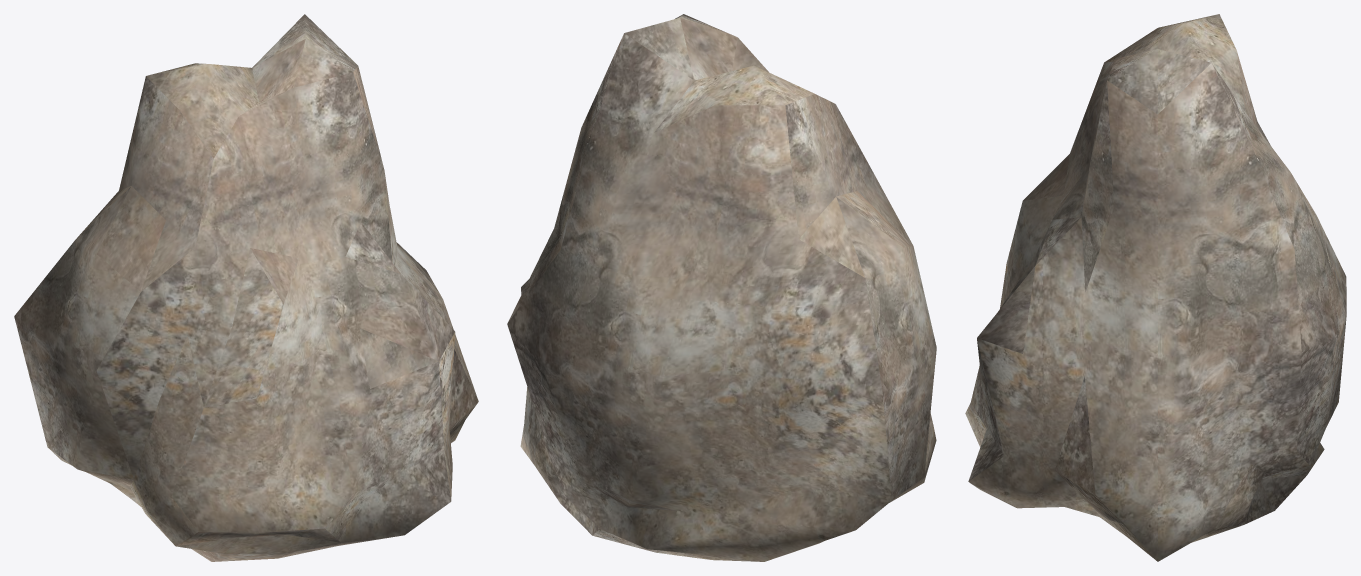
File: n-rockTallA.glb
The picture shows the model from 3 angles, left to right: view 1: azimuth 30°, elevation 25°; view 2: azimuth 150°, elevation 25°; view 3: azimuth 270°, elevation 25°; orthographic projection. The views are drawn at different scales.
Visible parts, largest first — view 1: rock; view 2: rock; view 3: rock.
Boxes of the visible parts, box(x1,y1,x2,y2) form: rock: box(14, 14, 478, 561); rock: box(507, 14, 936, 561); rock: box(965, 14, 1346, 561).
Bounding box in the file's own units: 1.91 × 2.21 × 1.61.
Materials: 1 (1 with a texture image).
